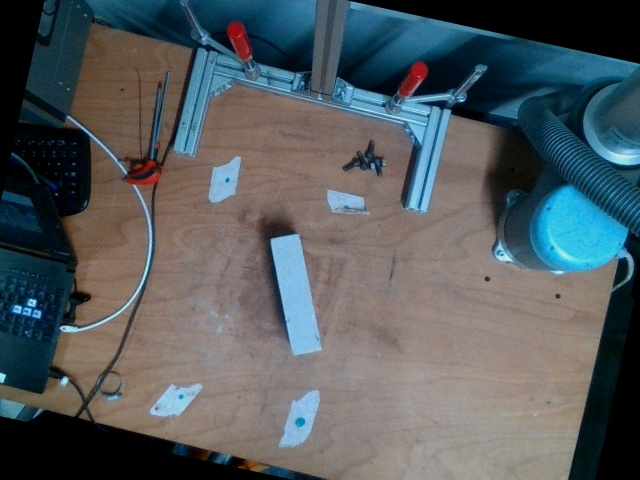brick-side: (270, 233, 321, 354)
